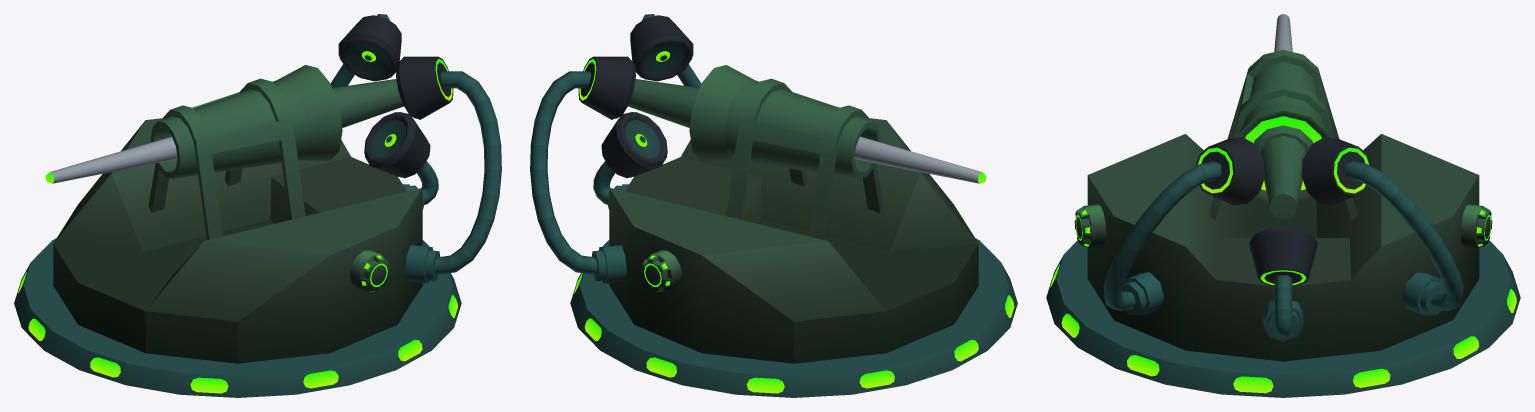
The model's file is green_03.fbx.
3 views of the same model, side by side, from view 1: azimuth 30°, elevation 25°; view 2: azimuth 150°, elevation 25°; view 3: azimuth 270°, elevation 25° (orthographic). The views are drawn at different scales.
Parts seen in each view (by area): view 1: Circle.022, green_03; view 2: Circle.022, green_03; view 3: Circle.022, green_03.
Part boxes in pixels (x1=…): Circle.022: x1=45, y1=14, x2=501, y2=363; green_03: x1=14, y1=238, x2=461, y2=397; Circle.022: x1=530, y1=14, x2=986, y2=363; green_03: x1=570, y1=238, x2=1017, y2=397; Circle.022: x1=1074, y1=14, x2=1492, y2=361; green_03: x1=1046, y1=240, x2=1520, y2=397.
Bounding box in the file's own units: 522 × 285 × 514.
